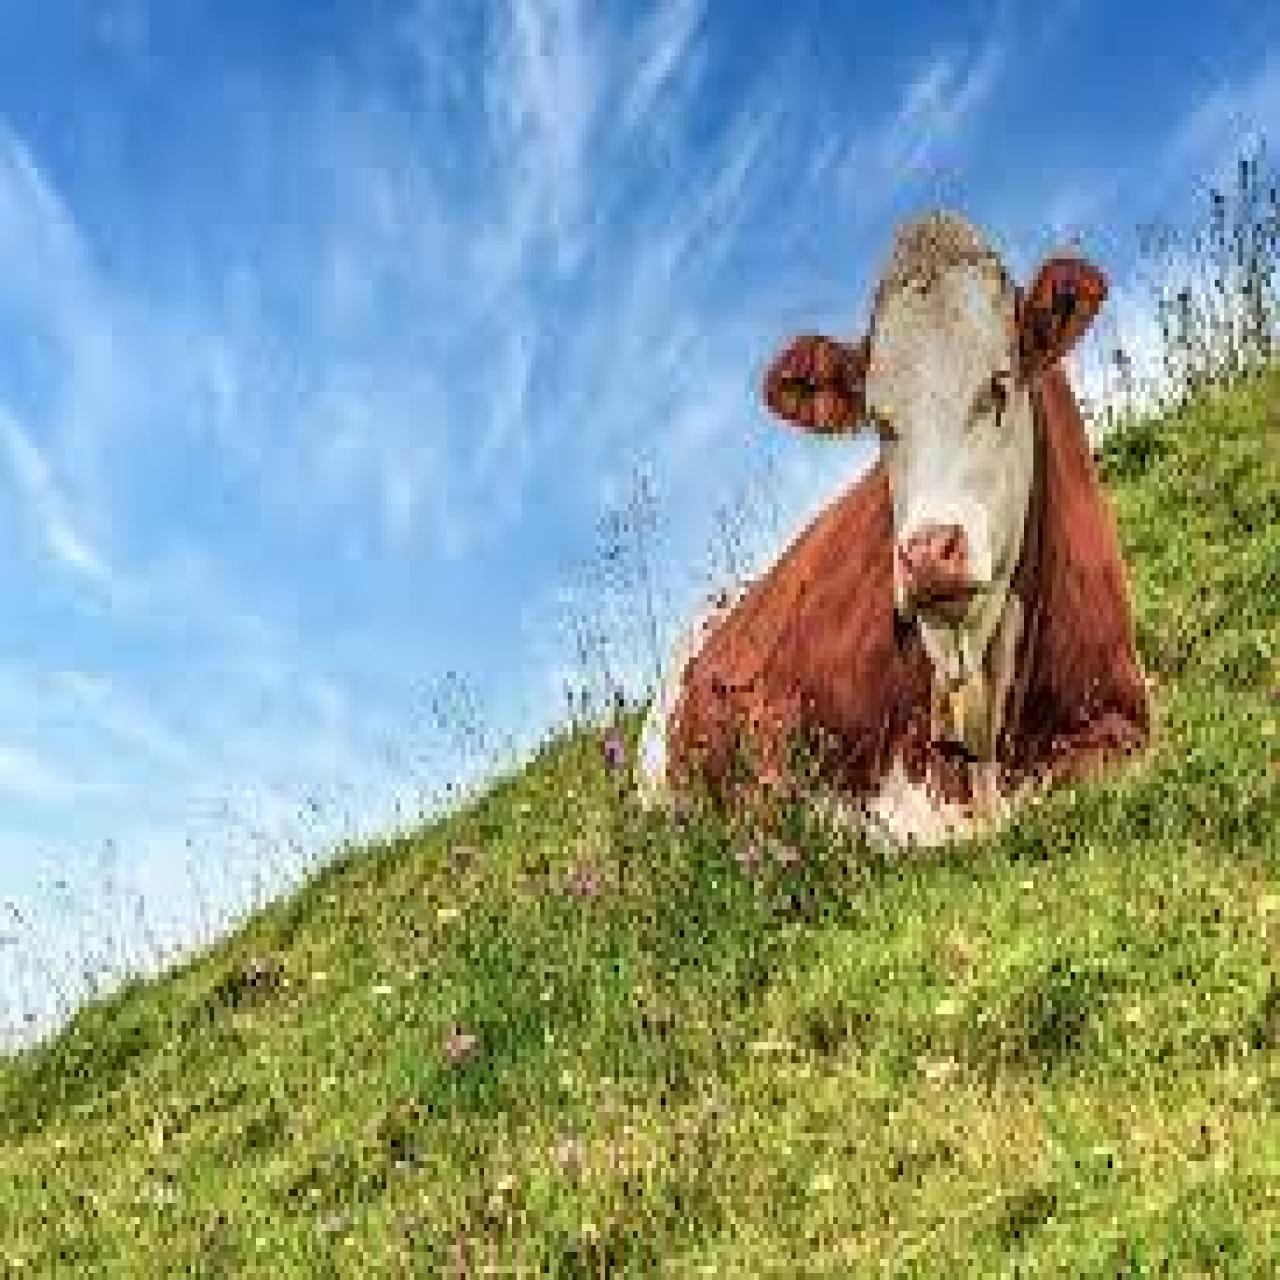cow: (640, 224, 1152, 867)
